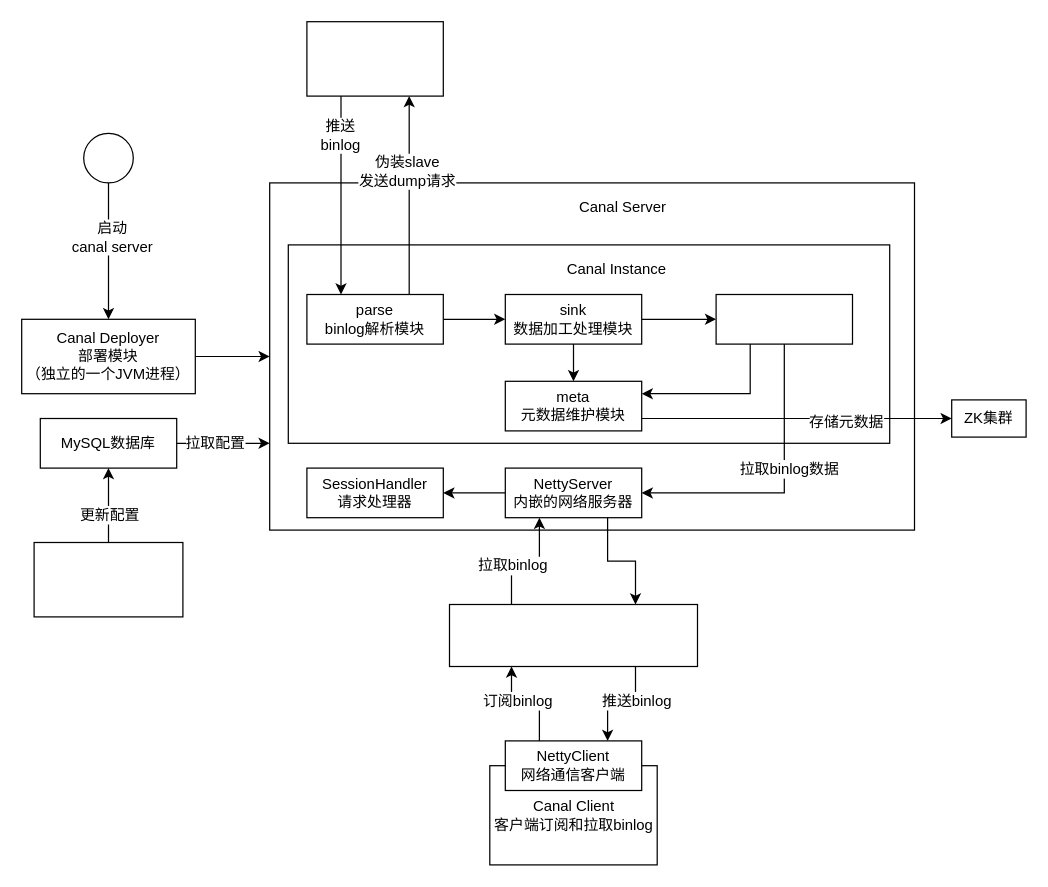
This 1048x887 diagram has some shape labels left out. Each missing label, with the centre of its shape:
Canal Admin 可视化管理工作台: point 108,579
Canal Protocol Canal Client和Canal Server通信协议: point 573,634
MySQL 数据库实例: point 374,58
store 数据存储模块: point 783,318
工程师: point 107,157
